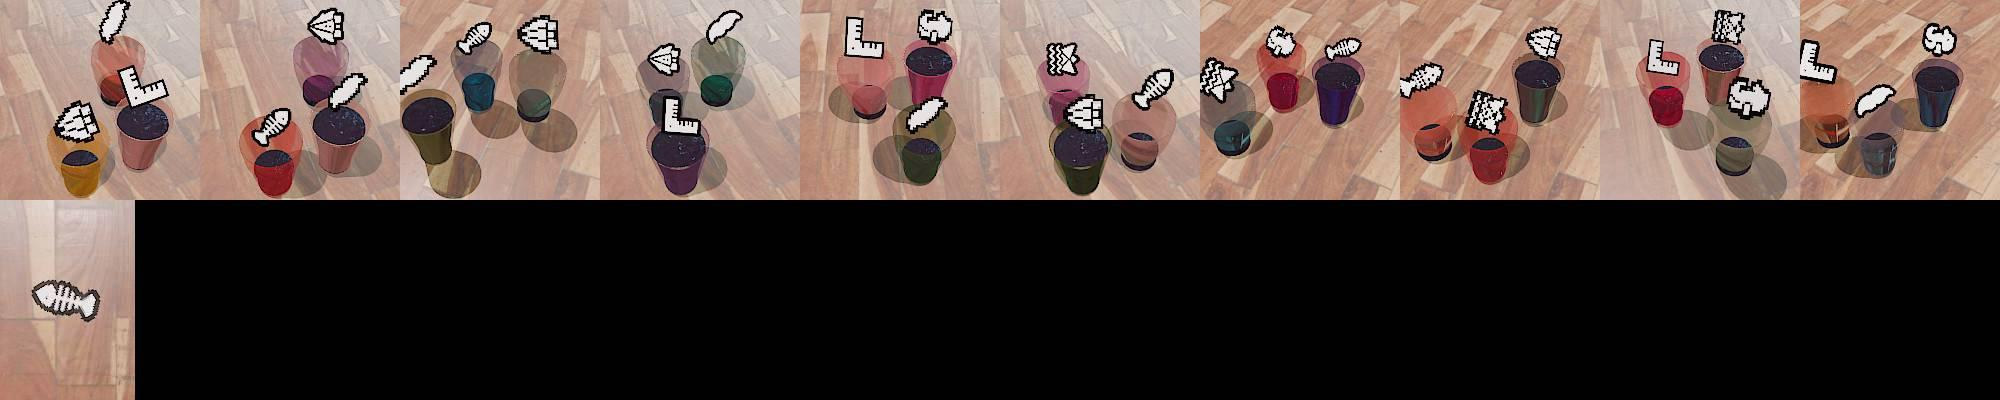icon: (31, 279, 101, 322), (116, 65, 170, 110), (1463, 89, 1510, 135), (52, 98, 101, 143), (1131, 66, 1177, 111), (1798, 37, 1839, 85), (1726, 76, 1772, 118), (659, 93, 703, 136), (325, 70, 369, 111), (844, 15, 884, 60), (906, 92, 950, 131), (518, 14, 560, 55), (1200, 56, 1237, 102), (1399, 62, 1445, 98), (1064, 93, 1105, 132), (251, 106, 291, 146), (306, 6, 346, 46), (399, 52, 436, 94), (1853, 84, 1897, 120), (97, 1, 130, 45), (916, 8, 954, 45), (705, 10, 742, 47), (1645, 38, 1681, 76), (1526, 25, 1562, 60), (1710, 9, 1745, 46), (455, 22, 491, 56), (1922, 23, 1957, 57), (1046, 41, 1079, 76), (647, 43, 681, 75), (1265, 25, 1297, 59), (1324, 36, 1362, 61)
